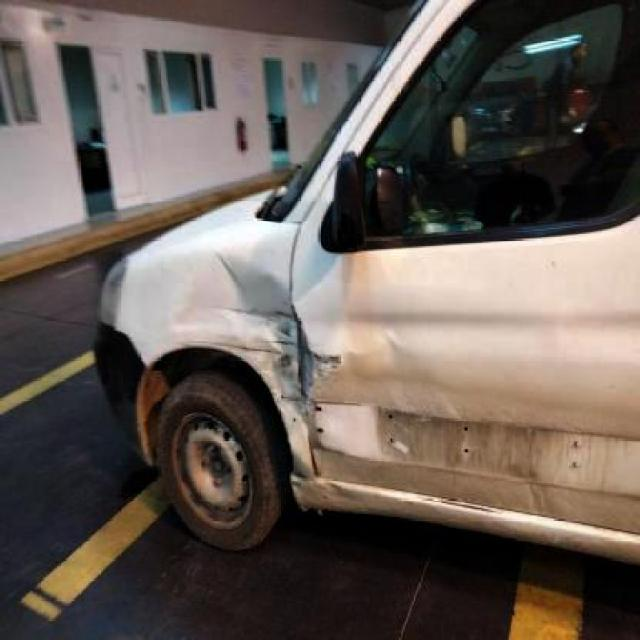car damage: (231, 303, 332, 417), (179, 253, 290, 322), (301, 466, 352, 498), (293, 321, 308, 397)
